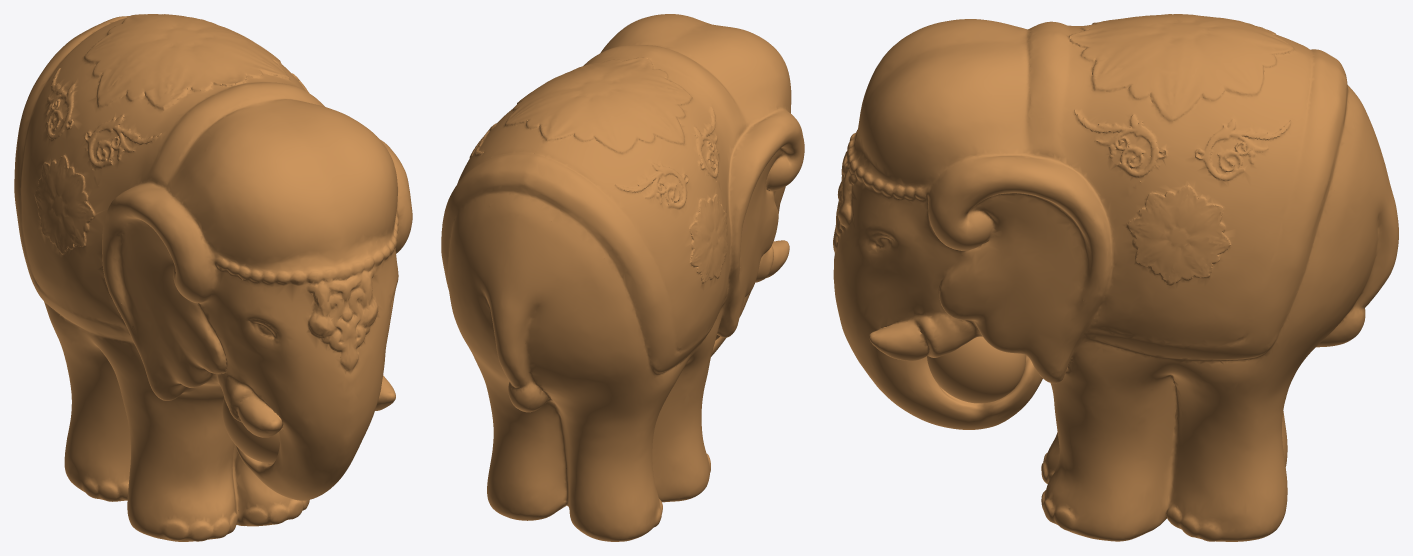
The model's file is statue_elephant.glb.
3 views of the same model, side by side, from view 1: azimuth 30°, elevation 25°; view 2: azimuth 150°, elevation 25°; view 3: azimuth 270°, elevation 25° (orthographic). The views are drawn at different scales.
Parts seen in each view (by area): view 1: Default_Mat_0; view 2: Default_Mat_0; view 3: Default_Mat_0.
Boxes of the visible parts, bbox=[...] form: Default_Mat_0: bbox=[14, 14, 412, 541]; Default_Mat_0: bbox=[441, 14, 804, 541]; Default_Mat_0: bbox=[833, 14, 1398, 541].
Size of the model in its own units: 754 by 1261 by 1356.
